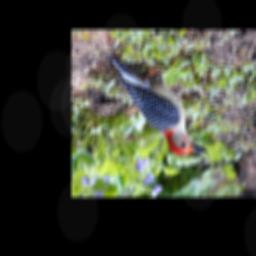Woodpecker: (107, 54, 208, 155)
